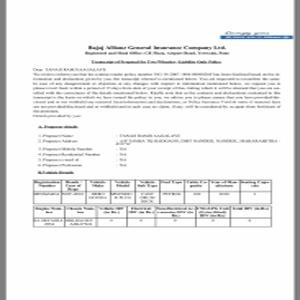table: (33, 178, 273, 207), (32, 204, 272, 228)
text: (31, 67, 283, 117), (36, 123, 279, 167), (82, 44, 231, 67)
